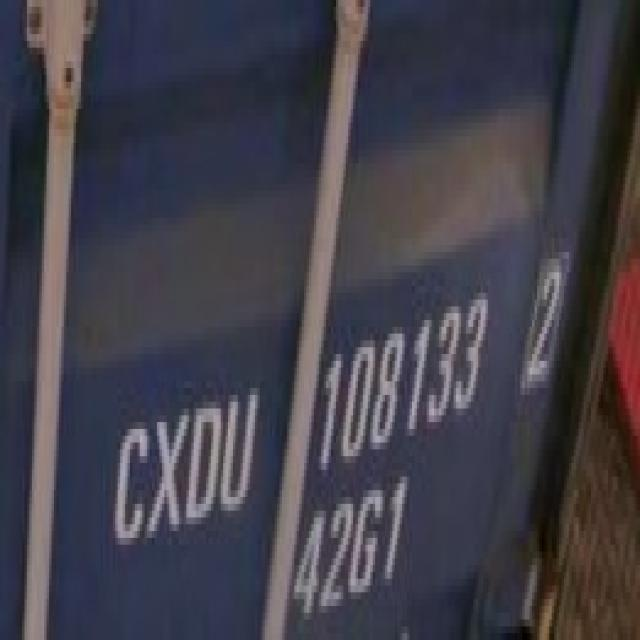dv: (521, 242, 568, 404)
owner: (108, 368, 262, 556)
serial: (319, 274, 495, 474)
size: (286, 473, 416, 632)
